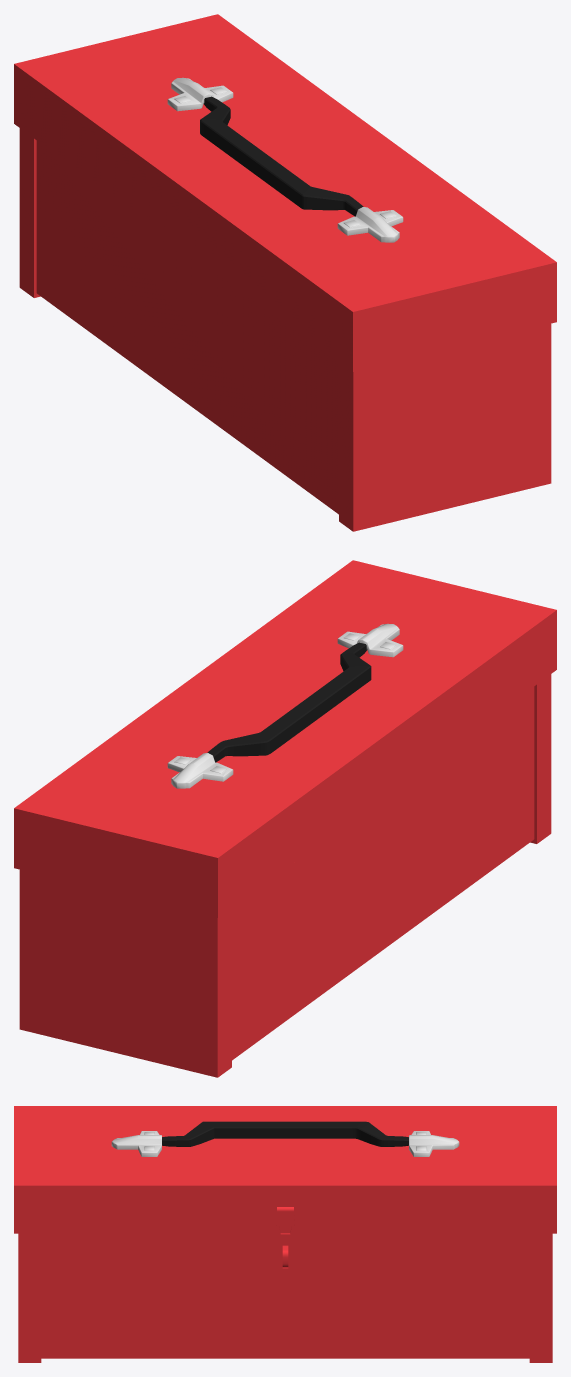
Rendered from Toolbox.fbx.
The picture shows the model from 3 angles, top to bottom: view 1: azimuth 30°, elevation 25°; view 2: azimuth 150°, elevation 25°; view 3: azimuth 270°, elevation 25°; orthographic projection. The views are drawn at different scales.
Parts seen in each view (by area): view 1: Cube, Cube.002, Cube.001; view 2: Cube, Cube.002, Cube.001; view 3: Cube, Cube.002, Cube.001, Cube.003.
Boxes of the visible parts, x1,y1,x2,y2 form: Cube: [14, 14, 556, 531]; Cube.002: [200, 96, 363, 216]; Cube.001: [167, 77, 403, 242]; Cube: [14, 560, 556, 1077]; Cube.002: [207, 642, 371, 762]; Cube.001: [167, 623, 403, 788]; Cube: [14, 1106, 556, 1362]; Cube.002: [162, 1121, 408, 1146]; Cube.001: [111, 1131, 459, 1156]; Cube.003: [276, 1207, 294, 1270].
Bounding box in the file's own units: 34.48 × 36.13 × 93.88.
